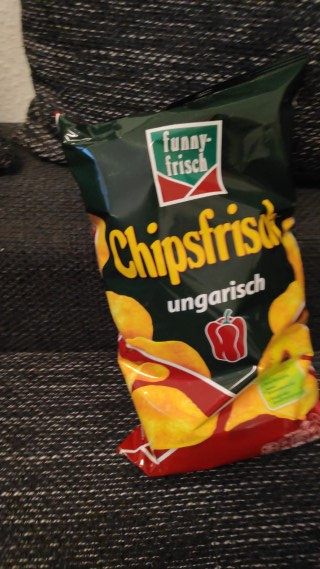chipsfrisch: (52, 48, 320, 479)
